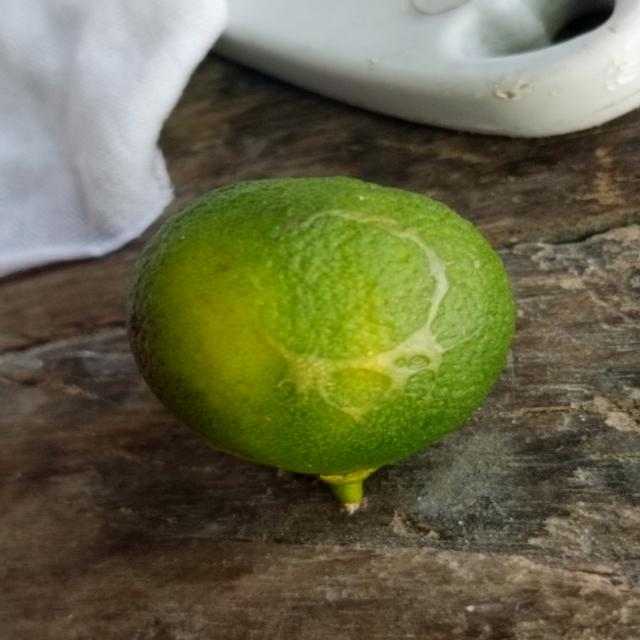thrips: (116, 174, 520, 468)
